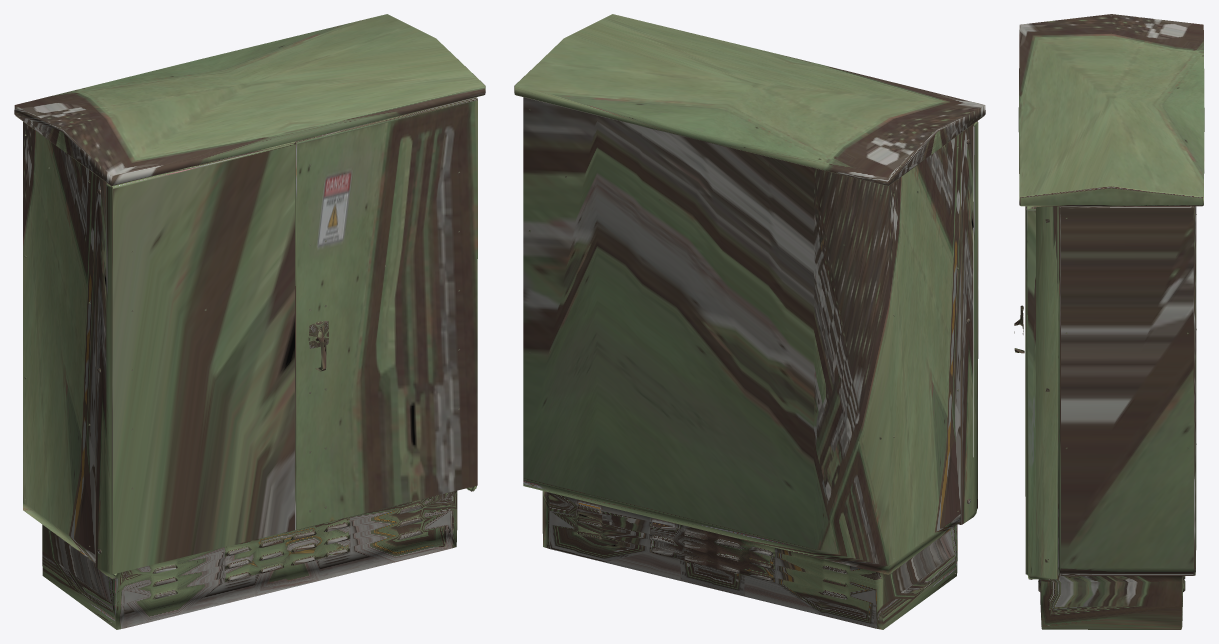
Rendered from utility_box_02.glb.
3 views of the same model, side by side, from view 1: azimuth 30°, elevation 25°; view 2: azimuth 150°, elevation 25°; view 3: azimuth 270°, elevation 25° (orthographic). The views are drawn at different scales.
Visible parts, largest first — view 1: utility_box_02; view 2: utility_box_02; view 3: utility_box_02.
Boxes of the visible parts, x1,y1,x2,y2 form: utility_box_02: (14, 14, 485, 629); utility_box_02: (514, 14, 985, 629); utility_box_02: (1014, 14, 1204, 629).
Bounding box in the file's own units: 0.92 × 1.12 × 0.427.
Materials: 1 (1 with a texture image).
